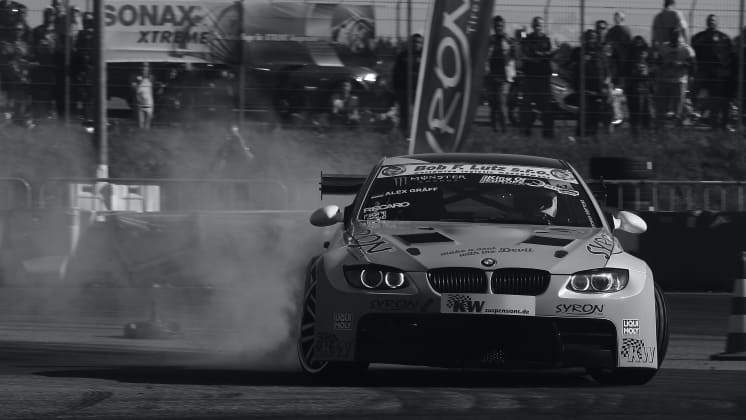car: (294, 152, 671, 387)
